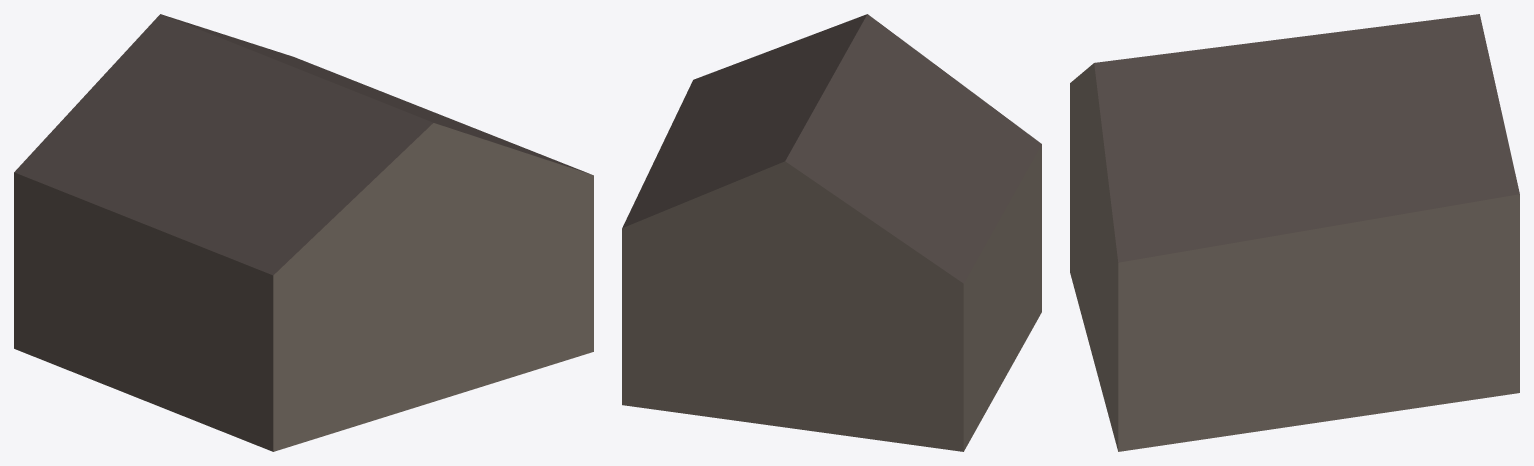
3 views of the same model, side by side, from view 1: azimuth 30°, elevation 25°; view 2: azimuth 150°, elevation 25°; view 3: azimuth 270°, elevation 25° (orthographic). The views are drawn at different scales.
Visible parts, largest first — view 1: HP-w1515071147; view 2: HP-w1515071147; view 3: HP-w1515071147.
Part boxes in pixels (box(x1,y1,x2,y2)): HP-w1515071147: box(14, 14, 593, 451); HP-w1515071147: box(622, 14, 1041, 451); HP-w1515071147: box(1070, 14, 1519, 451).
Size of the model in its own units: 15.36 by 9.49 by 12.93.
